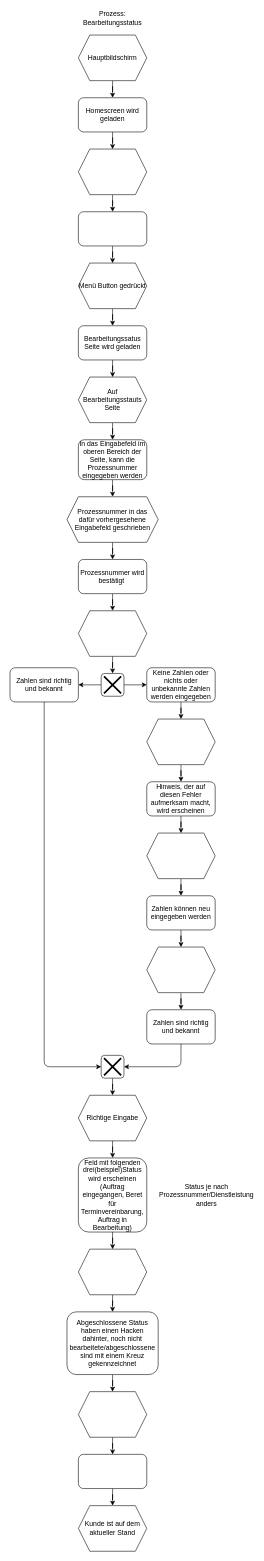
Some shapes in this 264 by 1561 pixel diagram are drawn without their labels. The centre of each missing label's shape, as x and y in pixels:
Auf Homescreen: the point at 112,171
Falsche Eingabe: the point at 180,741
Feld mit Status erscheint: the point at 112,1272
Hinweis erscheint: the point at 180,855
Kunde wird auf dem laufenden gehalten, wo sein Auftrag sich gerade befindet.: the point at 112,1471
Menüpunkt "Bearbeitungsstatus" wird gedrückt werden: the point at 112,228
Prozessnummer bestätigt: the point at 112,633
Zahlen eingegeben: the point at 180,969
Zeichnen stehen hinter Status: the point at 112,1414
